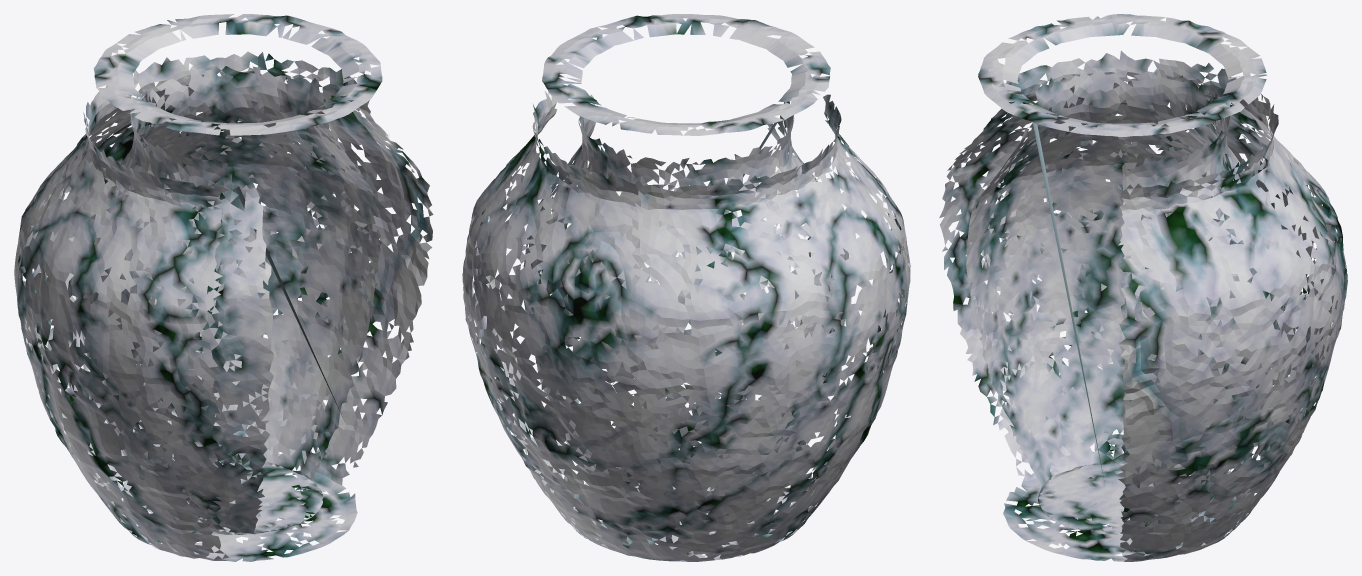
Rendered from vase2_final500.obj.
3 renders of one model, left to right at view 1: azimuth 30°, elevation 25°; view 2: azimuth 150°, elevation 25°; view 3: azimuth 270°, elevation 25°, orthographic.
Size of the model in its own units: 1.61 by 1.73 by 1.46.
